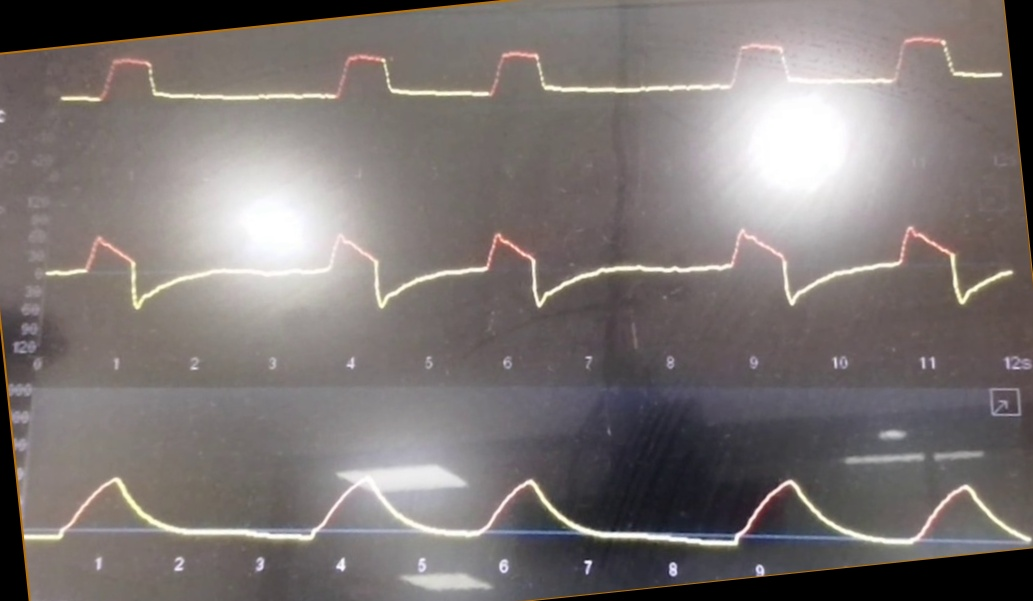Normal Flow: (47, 213, 1020, 346)
Normal Volume: (28, 444, 1031, 549)
